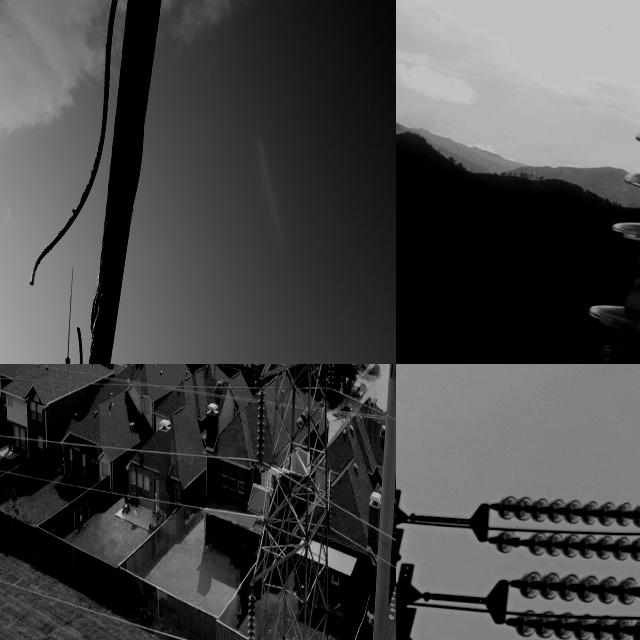杆塔: (249, 364, 335, 640), (396, 477, 521, 640)
正常电缆: (0, 457, 251, 525), (0, 569, 215, 640), (0, 424, 249, 468), (341, 527, 396, 574), (344, 503, 396, 547), (350, 390, 396, 425)
正常绝缘子: (583, 0, 640, 364), (508, 571, 640, 608), (495, 495, 640, 526), (496, 531, 640, 562), (517, 609, 640, 640), (254, 380, 268, 469), (245, 584, 259, 640), (325, 364, 336, 398)
电缆破损: (19, 0, 173, 364)
绝缘子破损: (622, 261, 640, 297), (513, 535, 529, 551)
